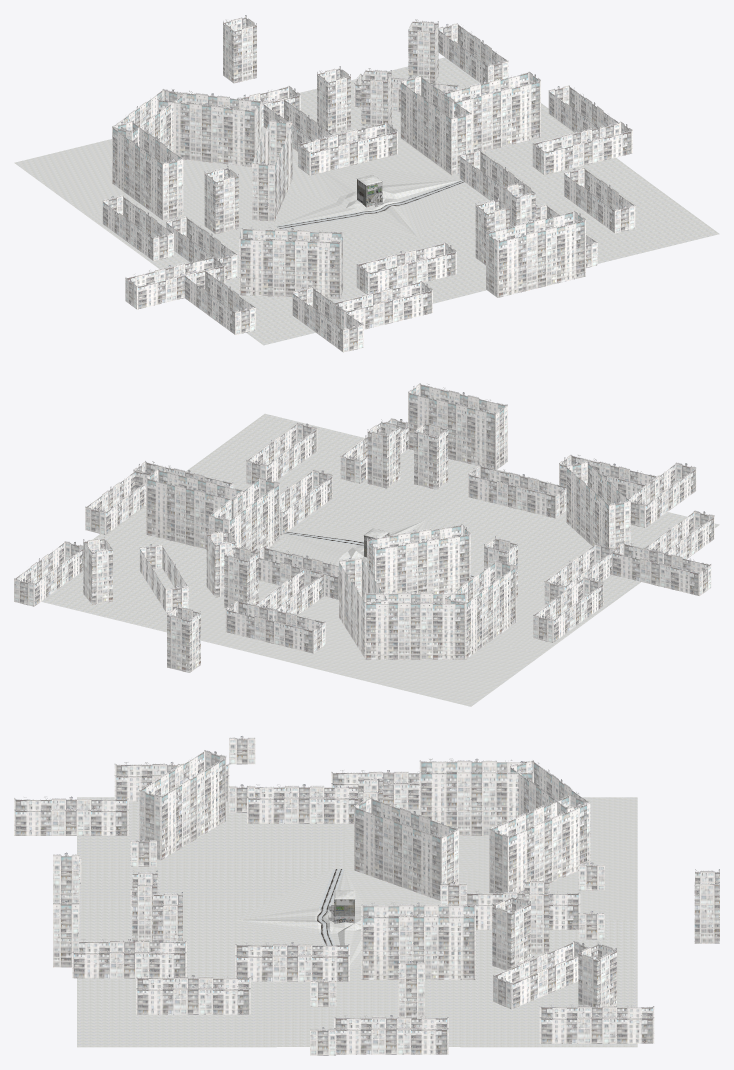
Rendered from fix_price_brutalist_low_poly_psx.glb.
3 renders of one model, top to bottom at view 1: azimuth 30°, elevation 25°; view 2: azimuth 150°, elevation 25°; view 3: azimuth 270°, elevation 25°, orthographic. The views are drawn at different scales.
Visible parts, largest first — view 1: Plane, building.019, building.025, building.006, building.004, building.008, building, building.005, building.018, building.015, building.003, building.020 (+21 smaller); view 2: Plane, building.007, building.005, building.025, building.004, building.019, building.008, building, building.018, building.011, building.028, building.017 (+21 smaller); view 3: Plane, building, building.005, building.006, building.008, building.019, building.031, building.016, building.014, building.024, building.021, building.002 (+20 smaller).
Part boxes in pixels (x1,y1,x2,y2): Plane: (14, 57, 719, 345); building.019: (239, 227, 343, 298); building.025: (486, 210, 585, 297); building.006: (157, 89, 261, 166); building.004: (441, 71, 540, 152); building.008: (112, 121, 183, 220); building: (400, 75, 471, 175); building.005: (252, 119, 292, 221); building.018: (356, 242, 456, 294); building.015: (532, 121, 632, 174); building.003: (298, 122, 397, 175); building.020: (333, 281, 432, 329); Plane: (41, 413, 719, 706); building.007: (364, 590, 466, 659); building.005: (367, 524, 470, 593); building.025: (408, 383, 507, 469); building.004: (146, 469, 245, 549); building.019: (566, 461, 630, 549); building.008: (445, 560, 516, 659); building: (209, 477, 279, 552); building.018: (468, 465, 566, 518); building.011: (225, 600, 325, 653); building.028: (611, 542, 711, 595); building.017: (533, 577, 603, 642); Plane: (77, 797, 637, 1047); building: (361, 902, 475, 979); building.005: (354, 797, 458, 900); building.006: (489, 794, 588, 893); building.008: (419, 758, 533, 835); building.019: (139, 750, 226, 860); building.031: (136, 975, 250, 1014); building.016: (539, 1004, 654, 1043); building.014: (334, 1015, 448, 1054); building.024: (72, 939, 186, 978); building.021: (14, 796, 128, 835); building.002: (235, 942, 349, 981).
Size of the model in its own units: 265 by 29.44 by 271.
Materials: 9 (9 with a texture image).
